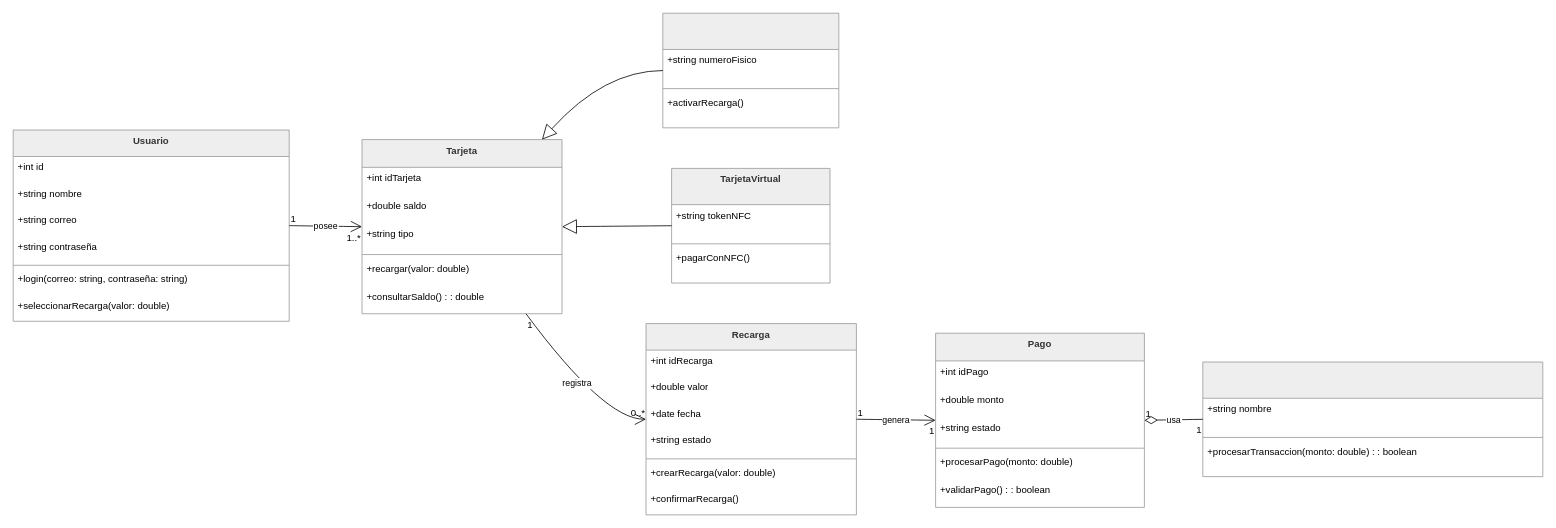
The diagram is 1556 pixels wide and 528 high, and some of its shapes have lost their labels. Each missing label, with the box of its shape:
PasarelaPago: (1202, 361, 1543, 477)
TarjetaFisica: (662, 12, 839, 128)
